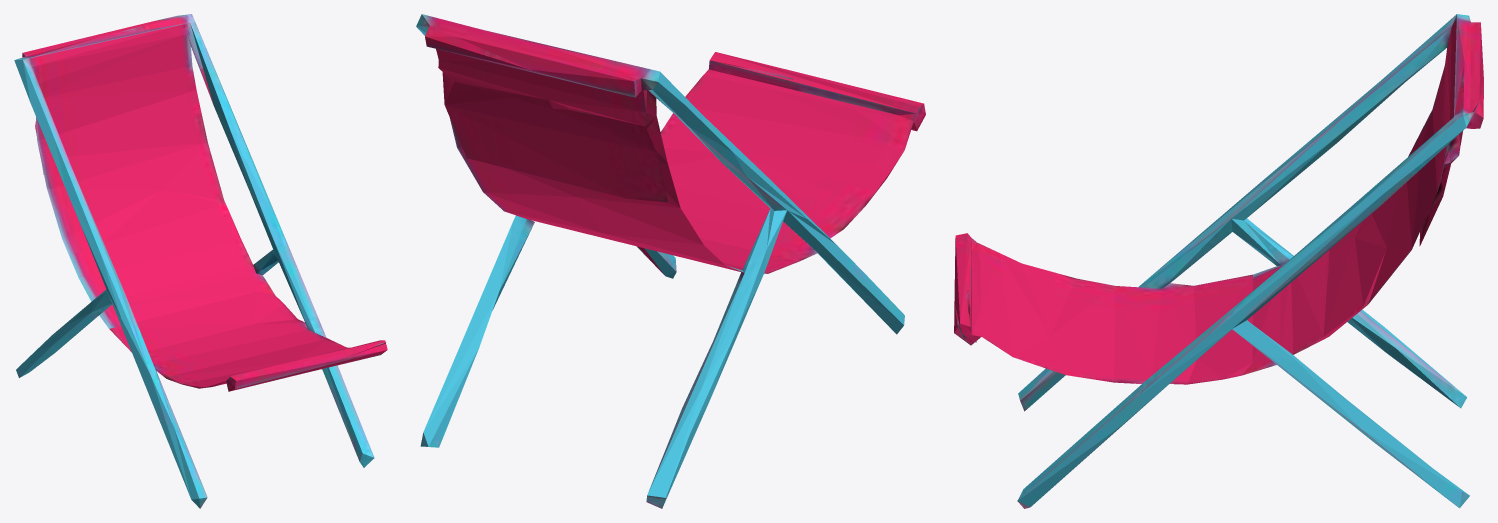
The model's file is beach-chair-model-1.glb.
3 views of the same model, side by side, from view 1: azimuth 30°, elevation 25°; view 2: azimuth 150°, elevation 25°; view 3: azimuth 270°, elevation 25° (orthographic). The views are drawn at different scales.
Parts seen in each view (by area): view 1: Mesh_0; view 2: Mesh_0; view 3: Mesh_0.
Part boxes in pixels (box(x1,y1,x2,y2)): Mesh_0: box(14, 14, 387, 508); Mesh_0: box(416, 14, 925, 508); Mesh_0: box(954, 14, 1483, 508).
Size of the model in its own units: 0.9724 by 1.66 by 2.
Materials: 1 (1 with a texture image).
